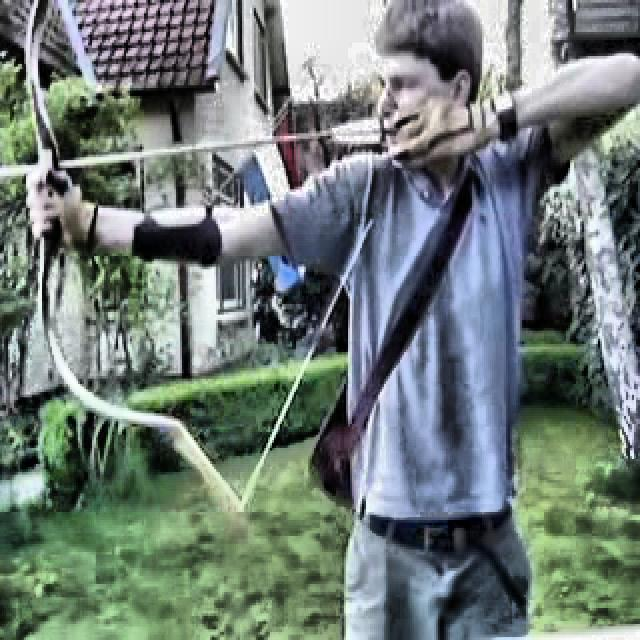P: (26, 10, 548, 634)
